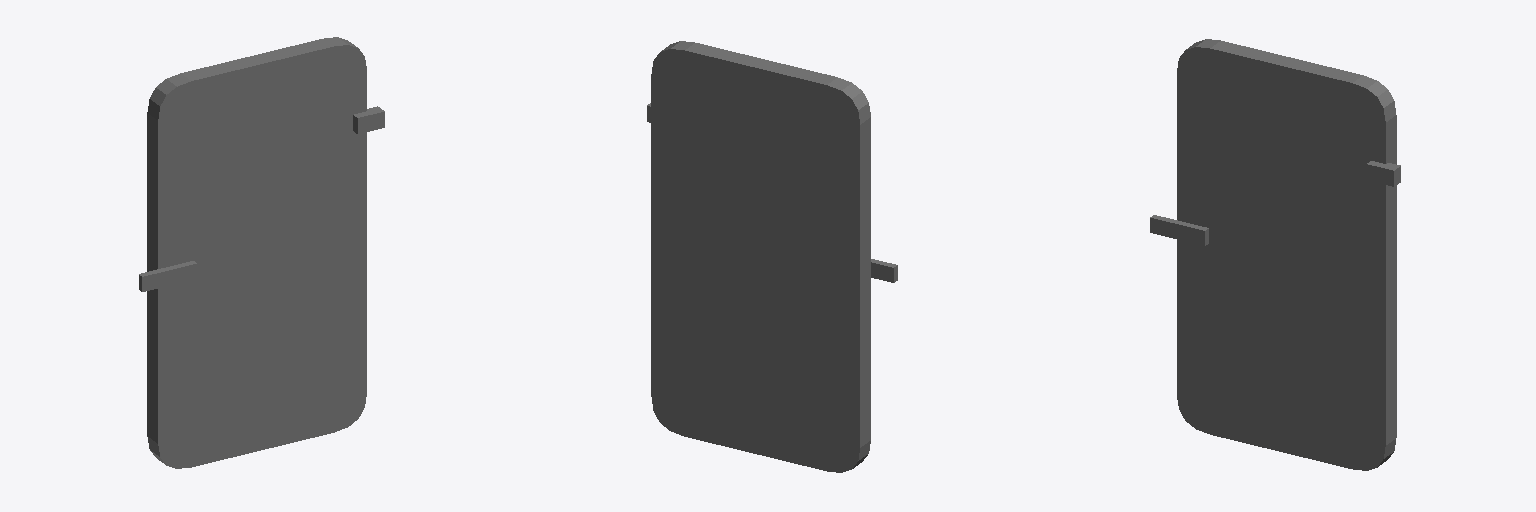
The model's file is Door.obj.
3 views of the same model, side by side, from view 1: azimuth 30°, elevation 25°; view 2: azimuth 150°, elevation 25°; view 3: azimuth 330°, elevation 25° (orthographic).
Visible parts, largest first — view 1: Doors_low, DoorHandle_low, DoorBolt_low; view 2: Doors_low; view 3: Doors_low, DoorHandle_low, DoorBolt_low.
Part boxes in pixels (left/top/right/bottom): Doors_low: left=147, top=37, right=366, bottom=468; DoorHandle_low: left=139, top=261, right=196, bottom=291; DoorBolt_low: left=353, top=106, right=384, bottom=133; Doors_low: left=651, top=41, right=870, bottom=472; Doors_low: left=1177, top=39, right=1396, bottom=470; DoorHandle_low: left=1150, top=215, right=1208, bottom=245; DoorBolt_low: left=1367, top=161, right=1400, bottom=186.
Size of the model in its own units: 9.11 by 13.81 by 1.05.